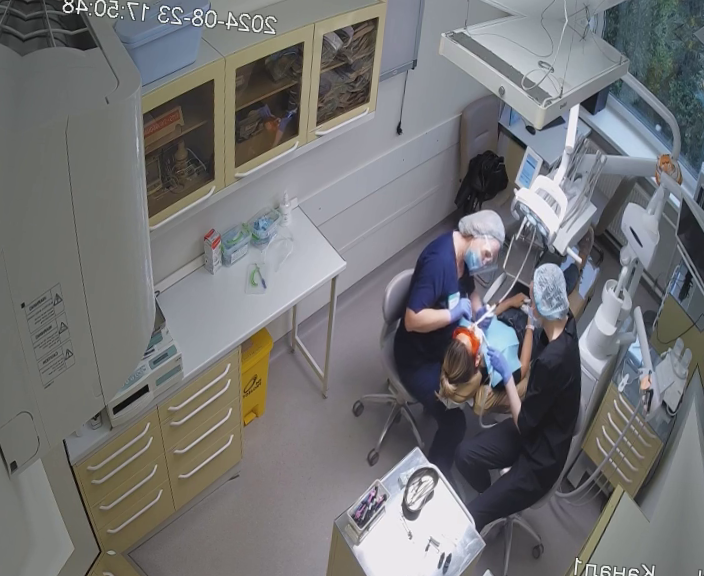Patient: (430, 197, 623, 425)
